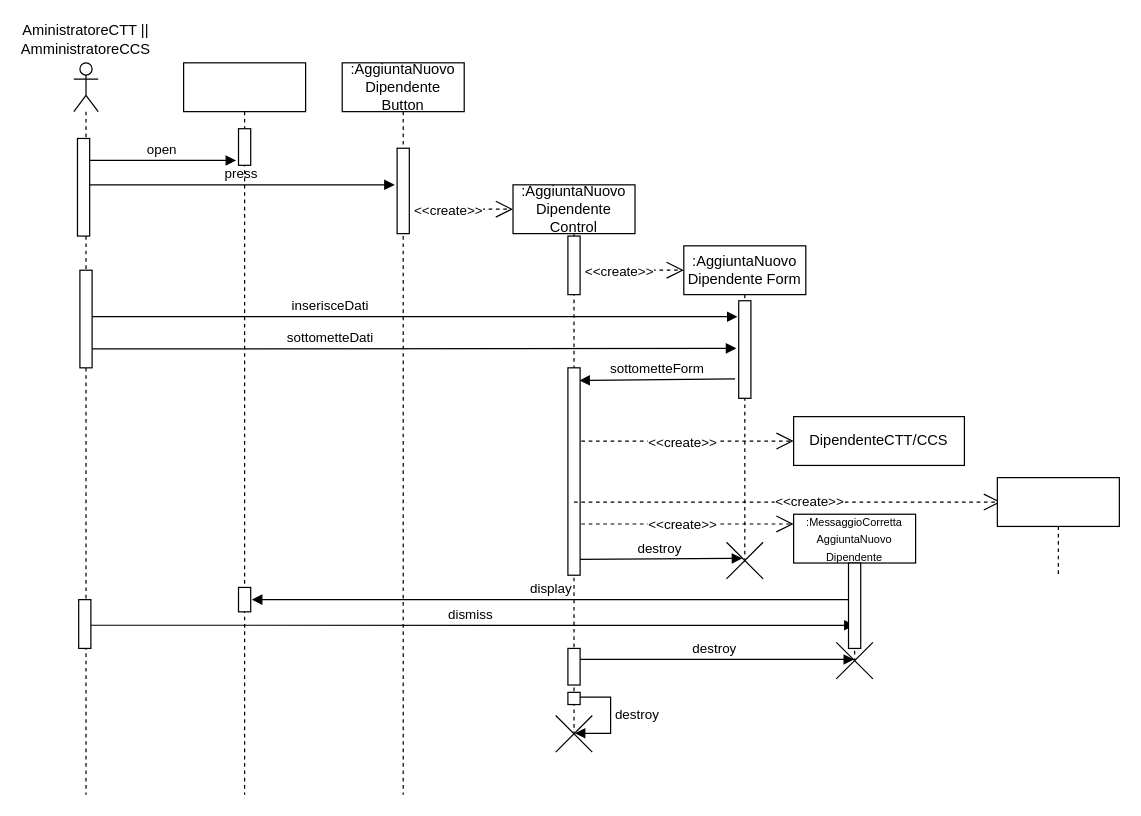
Image size: 1141x816. Some labels were removed from this diagram. Each missing label, with the box of its shape:
:DatiDipendentePDF: (996, 476, 1119, 575)
:Terminale Amministratore CTT/CCS: (182, 62, 306, 795)
